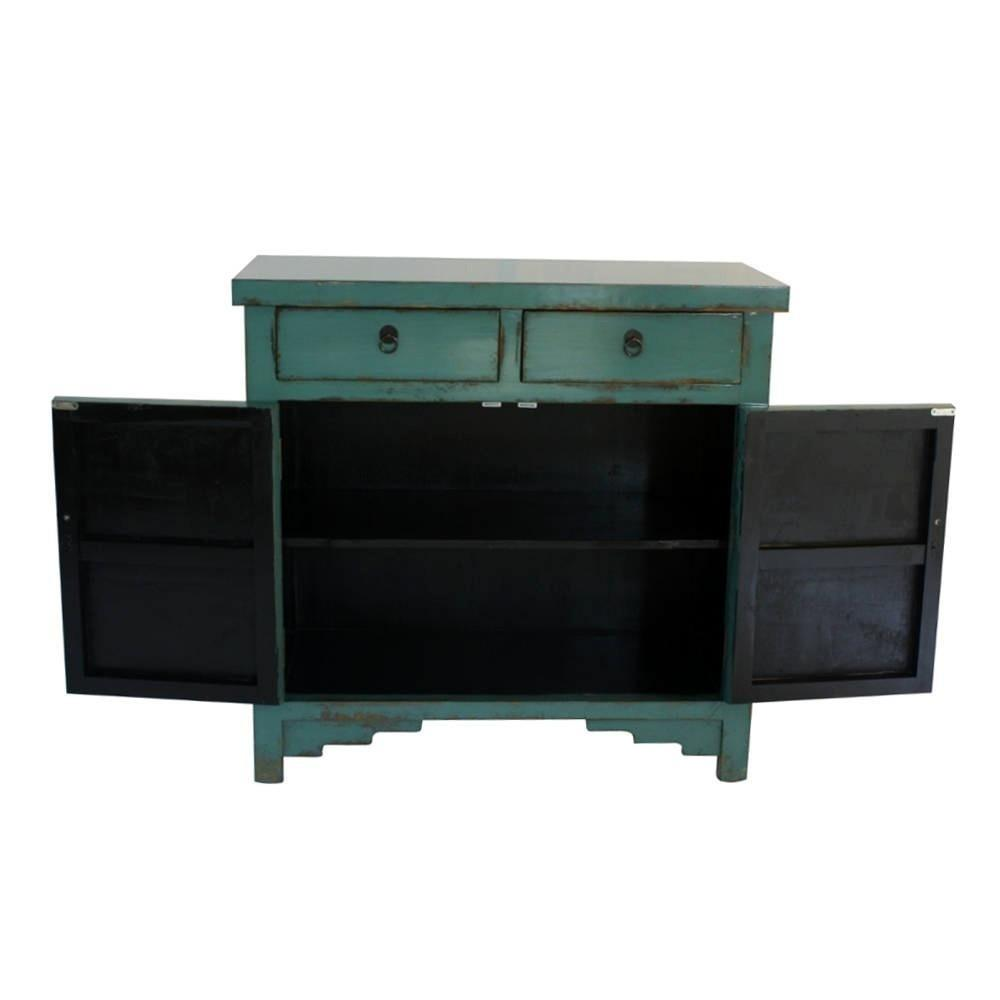cabinet_door: (284, 311, 510, 377), (528, 316, 742, 381)
handle: (378, 323, 401, 357), (621, 328, 644, 361)
